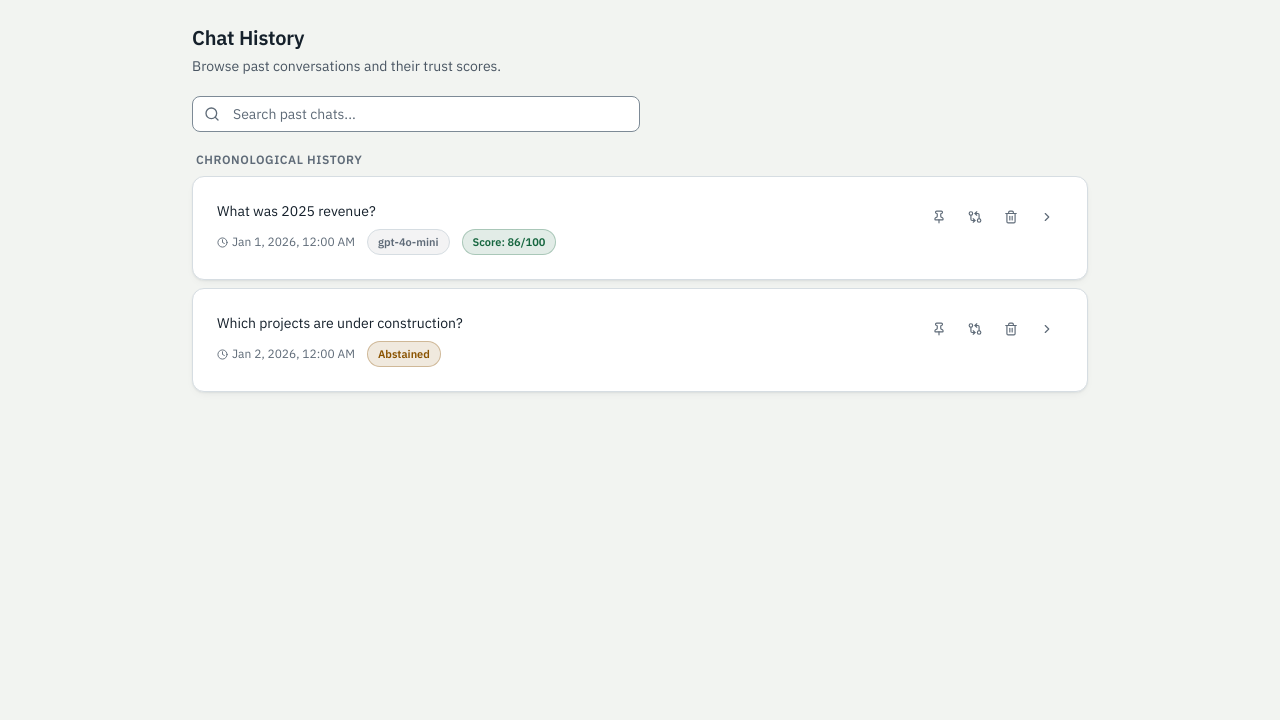
ChatHistoryPage › requires confirmation before deleting a chat, then invalidates the sidebar Recent cache (BUG-12)
The image size is (1280, 720).
Expected: the text "What was 2025 revenue?" is shown, [217, 202, 376, 220]
Click the button named "Delete chat" in the row of "What was 2025 revenue?" at (1011, 217), box [995, 201, 1027, 233]
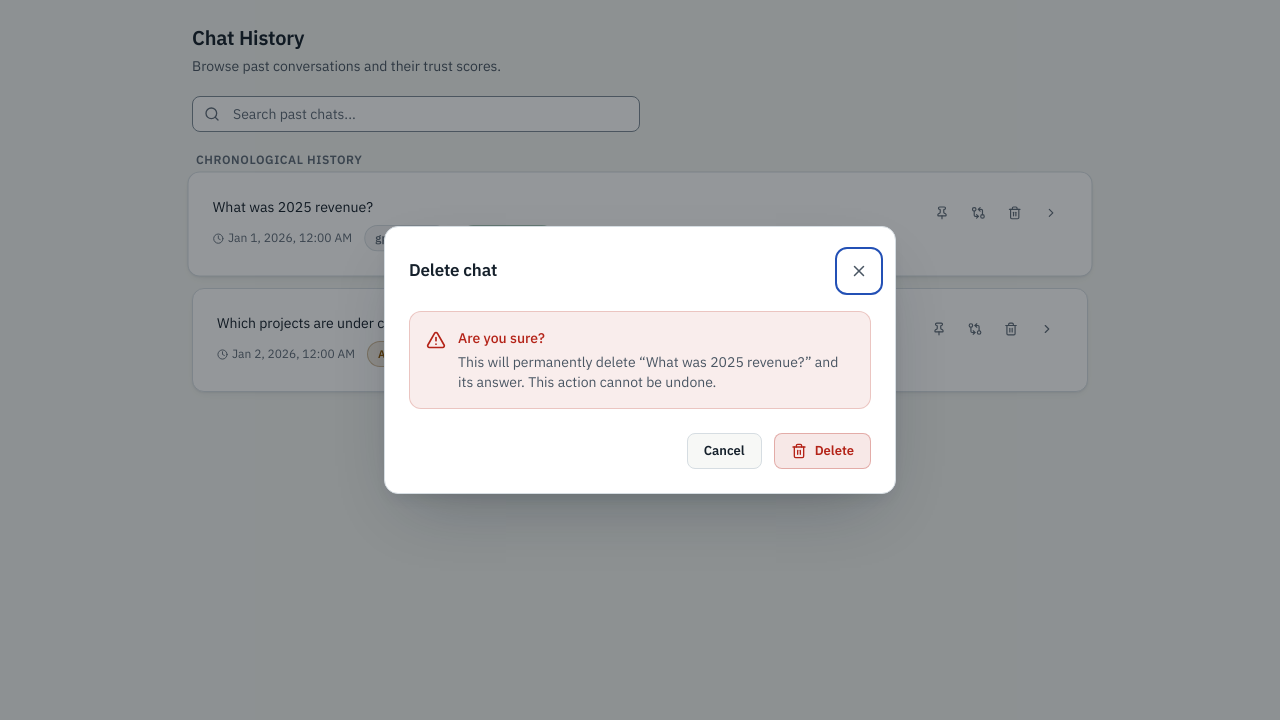
Result: the dialog "Delete chat" is shown at [384, 226, 896, 494]
Click the button "Delete" at (822, 451), box [774, 433, 871, 469]
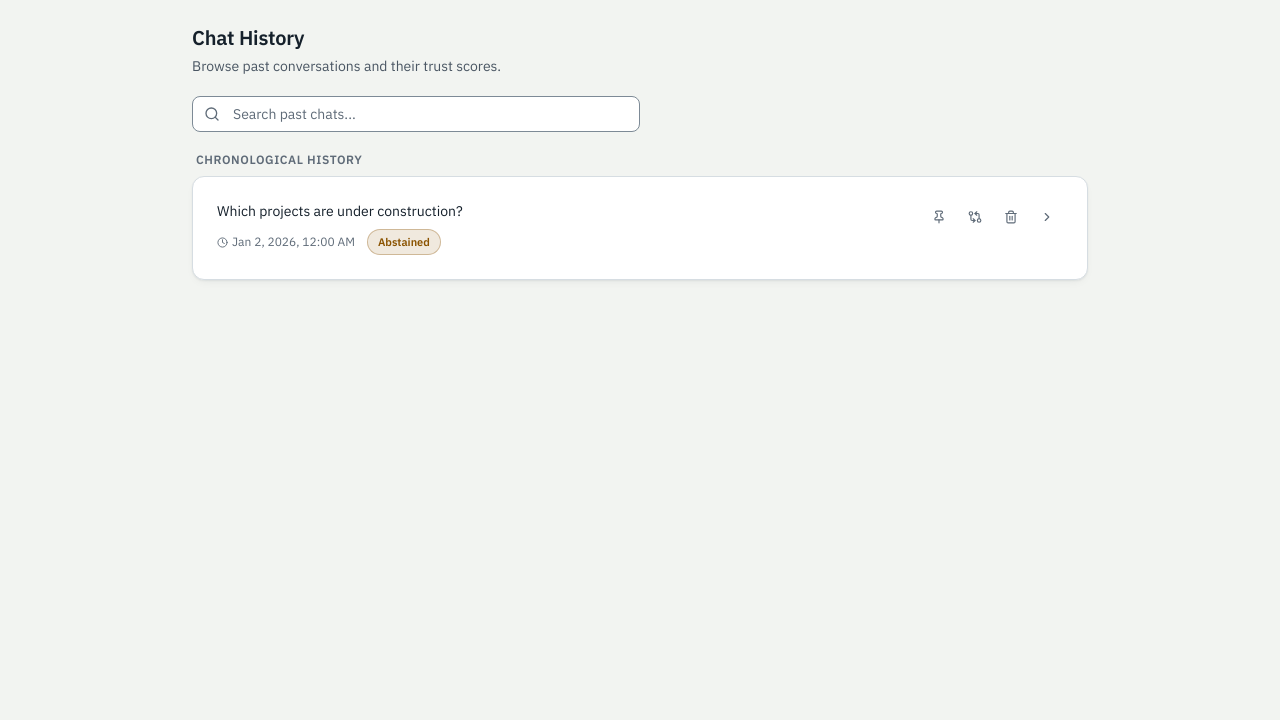
Result: the link "What was 2025 revenue?" is gone
